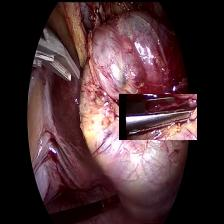Clipper: (29, 23, 80, 87)
Grasper: (118, 93, 196, 139)
